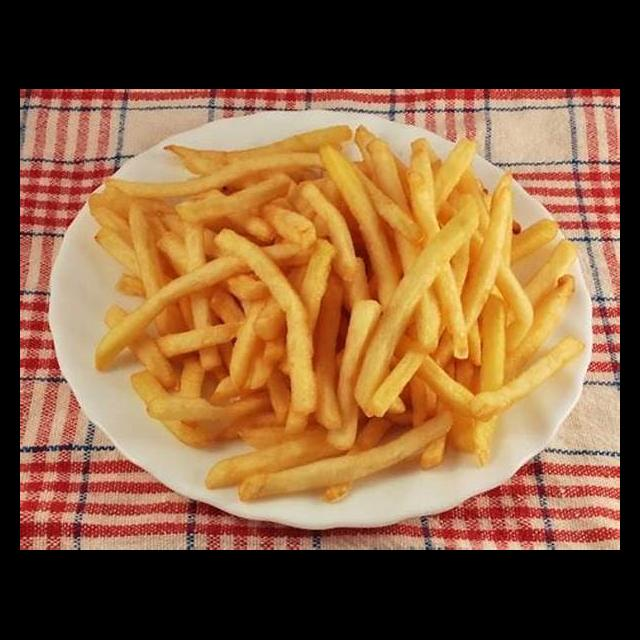food_waste: (139, 185, 497, 423)
